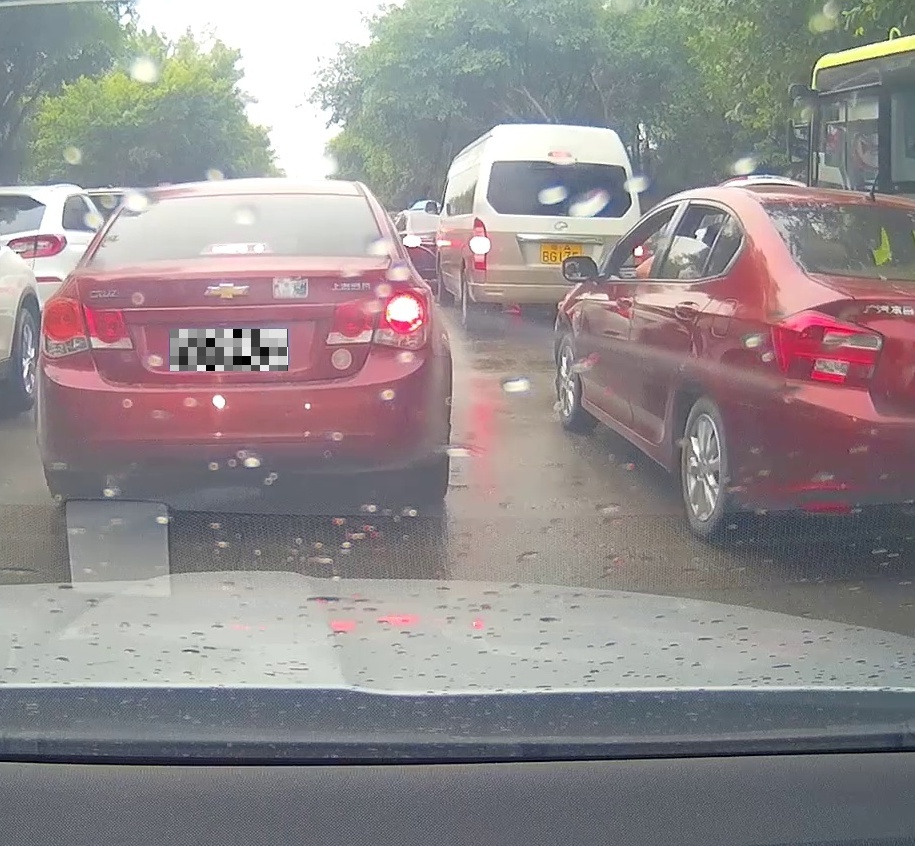L_light: (40, 296, 135, 359)
R_light: (324, 286, 434, 350)
T_light: (199, 242, 275, 257)
day-right: (34, 178, 453, 503)
plate_1: (170, 329, 288, 371)
